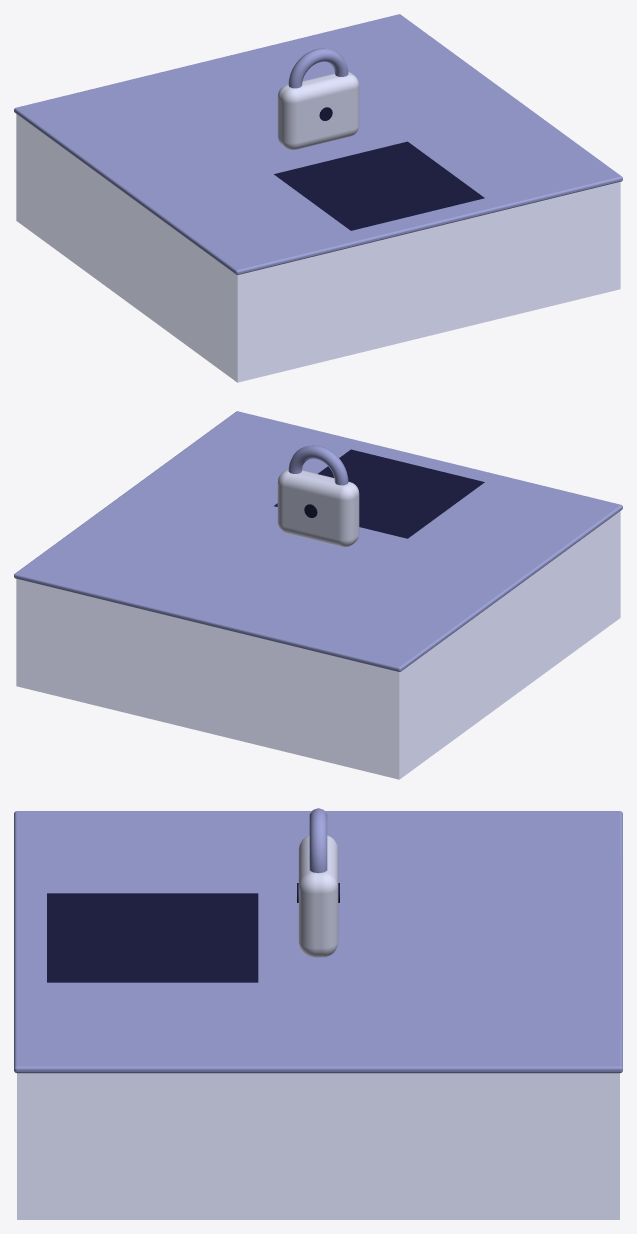
Rendered from frostedRoom.glb.
3 renders of one model, top to bottom at view 1: azimuth 30°, elevation 25°; view 2: azimuth 150°, elevation 25°; view 3: azimuth 270°, elevation 25°, orthographic. The views are drawn at different scales.
Parts seen in each view (by area): view 1: rim, box, plate, lockBody, shackle; view 2: rim, box, plate, lockBody, shackle; view 3: rim, box, plate, lockBody, shackle.
Part boxes in pixels (left/top/right/bottom): rim: left=14, top=14, right=622, bottom=274; box: left=16, top=114, right=620, bottom=382; plate: left=274, top=141, right=484, bottom=230; lockBody: left=277, top=72, right=359, bottom=150; shackle: left=288, top=48, right=348, bottom=88; rim: left=14, top=411, right=622, bottom=671; box: left=16, top=511, right=620, bottom=779; plate: left=274, top=449, right=484, bottom=538; lockBody: left=277, top=469, right=359, bottom=547; shackle: left=288, top=445, right=348, bottom=485; rim: left=14, top=811, right=622, bottom=1073; box: left=17, top=1073, right=619, bottom=1219; plate: left=47, top=893, right=258, bottom=982; lockBody: left=298, top=835, right=338, bottom=957; shackle: left=309, top=808, right=327, bottom=873.
Bounding box in the file's own units: 4.04 × 2.05 × 4.04.
